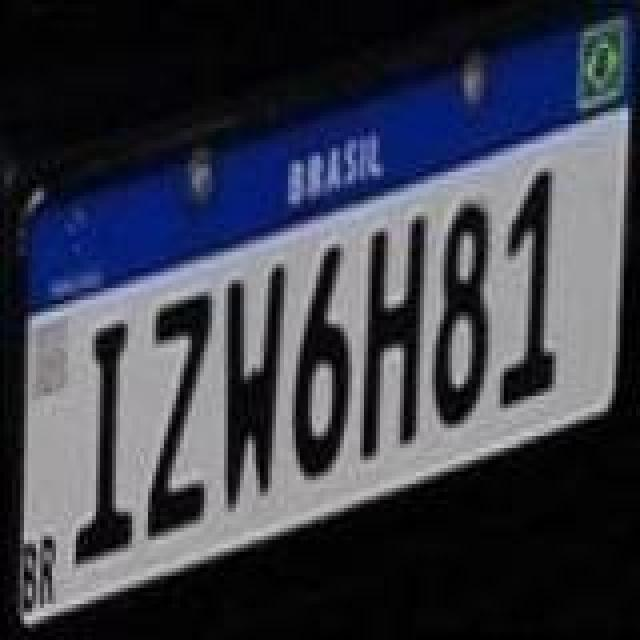1: (498, 164, 562, 412)
6: (290, 236, 354, 480)
8: (426, 202, 490, 434)
H: (360, 220, 428, 464)
I: (70, 324, 134, 572)
W: (222, 260, 286, 512)
Z: (142, 286, 214, 542)
